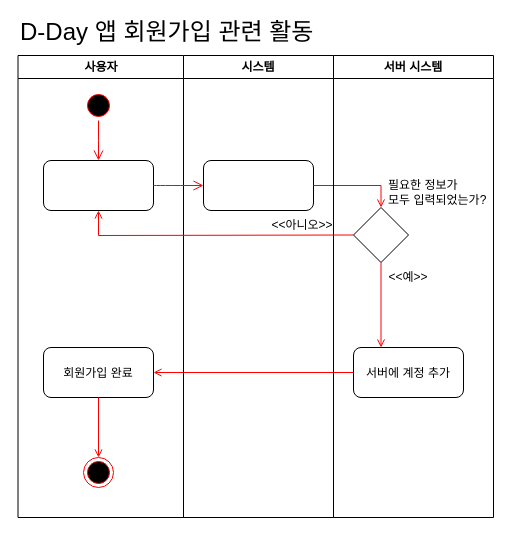
Some shapes in this 513 by 535 pixel diagram are drawn without their labels. Each missing label, with the centre of its shape:
"회원가입 정보 서버에 전송" belongs at (x=258, y=185).
"회원가입 정보 입력" belongs at (x=98, y=185).
